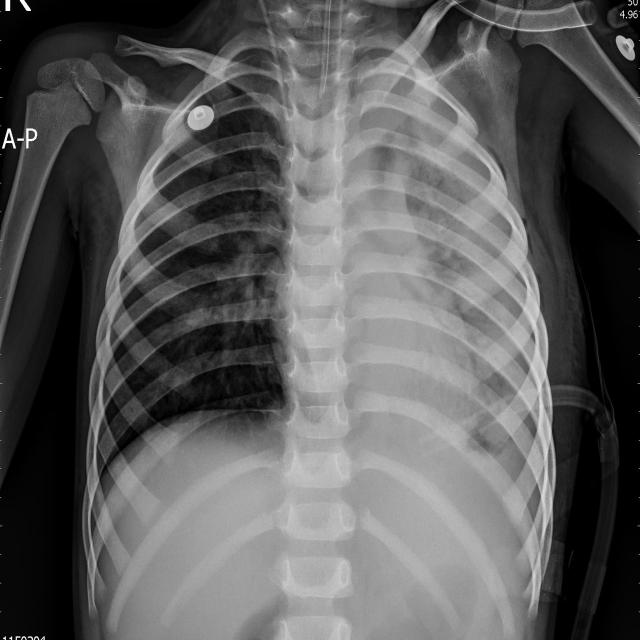high-pneumonia: (413, 112, 542, 419)
